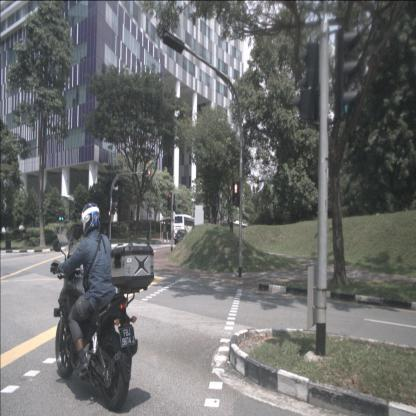vehicle-bus-rigid: (174, 214, 198, 242)
vehicle-car: (174, 229, 190, 245)
vehicle-motorcycle: (50, 201, 154, 411)
